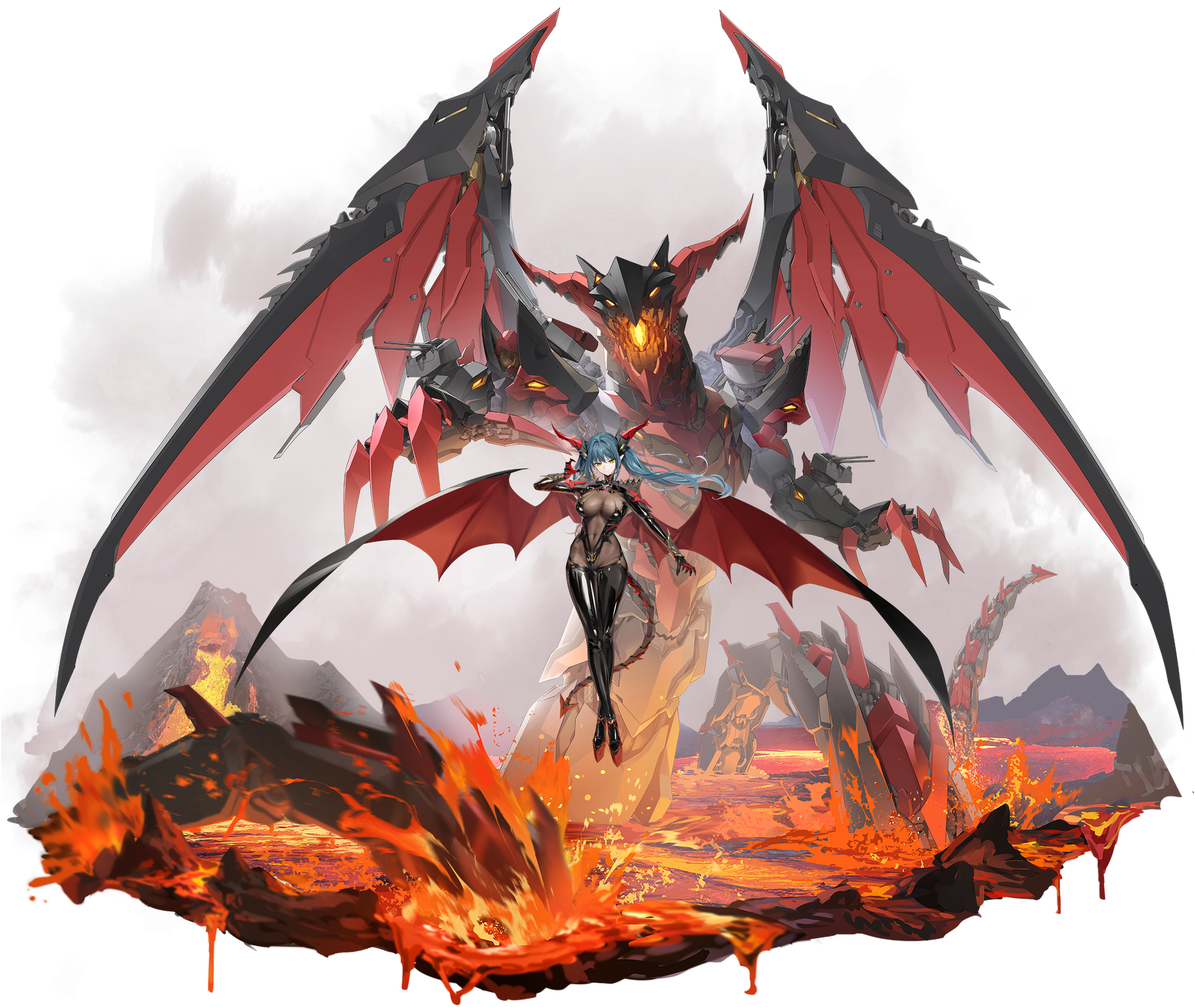person: (490, 399, 732, 939)
